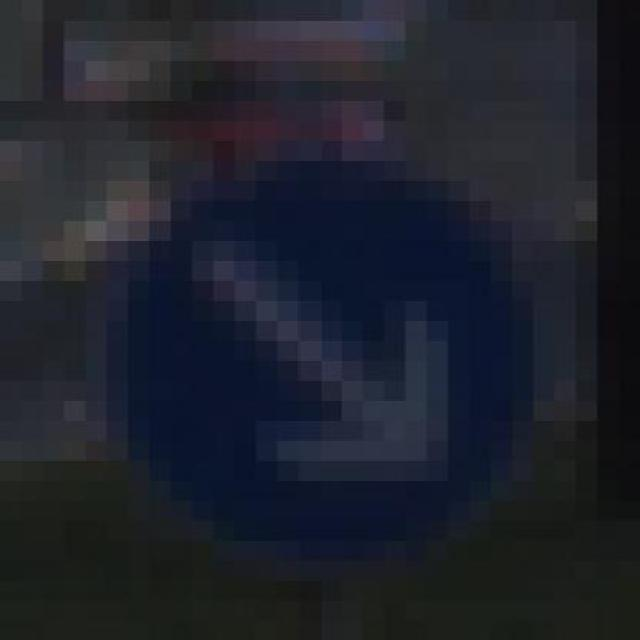Keep-Right: (64, 140, 576, 560)
